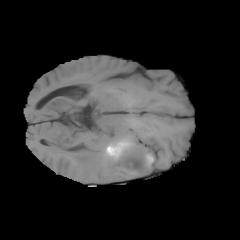glioma: (72, 131, 155, 178)
